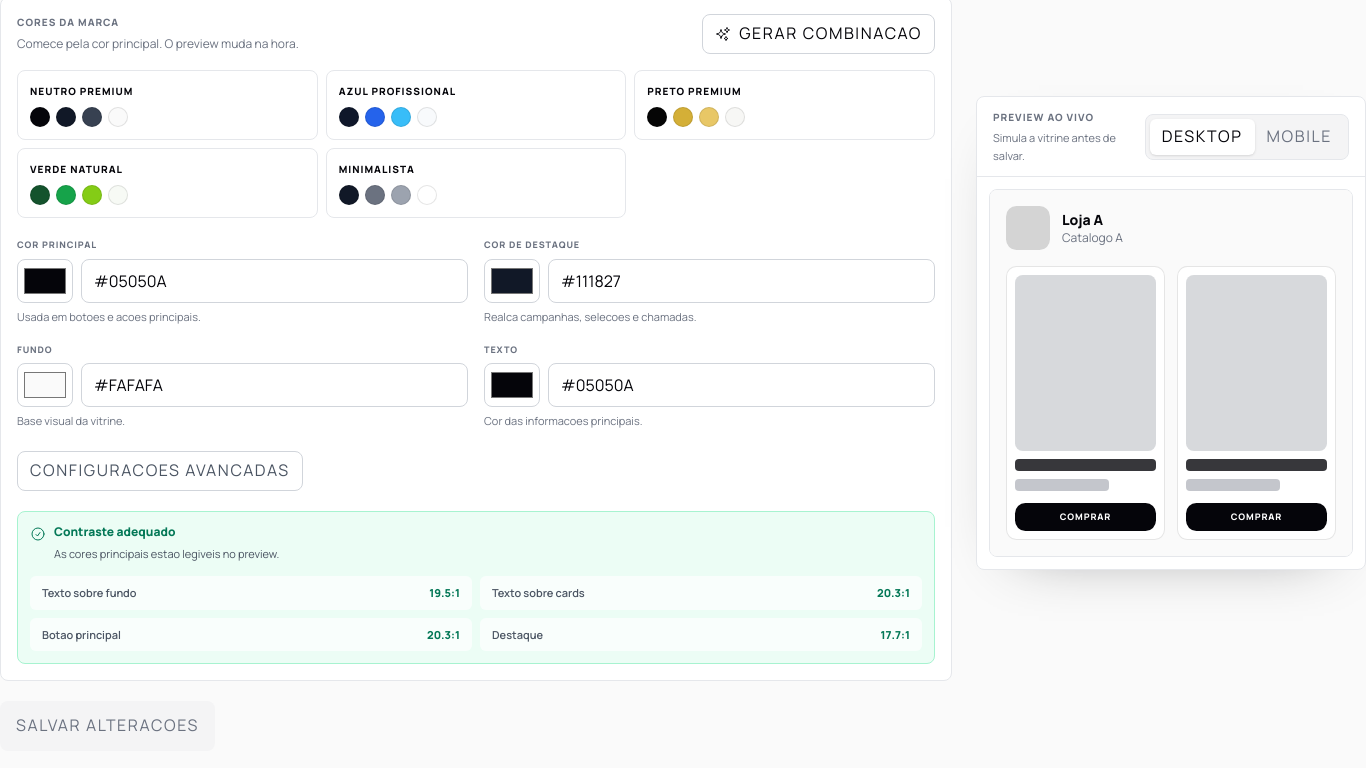
Test: StorefrontAppearanceTab › warns about low contrast and can fix the palette locally
(page scrolled)
Step 1. Replace the text in the field with test id "storefront-theme-background" with "#000000" → (274, 385), box [81,363,468,407]
(page scrolled)
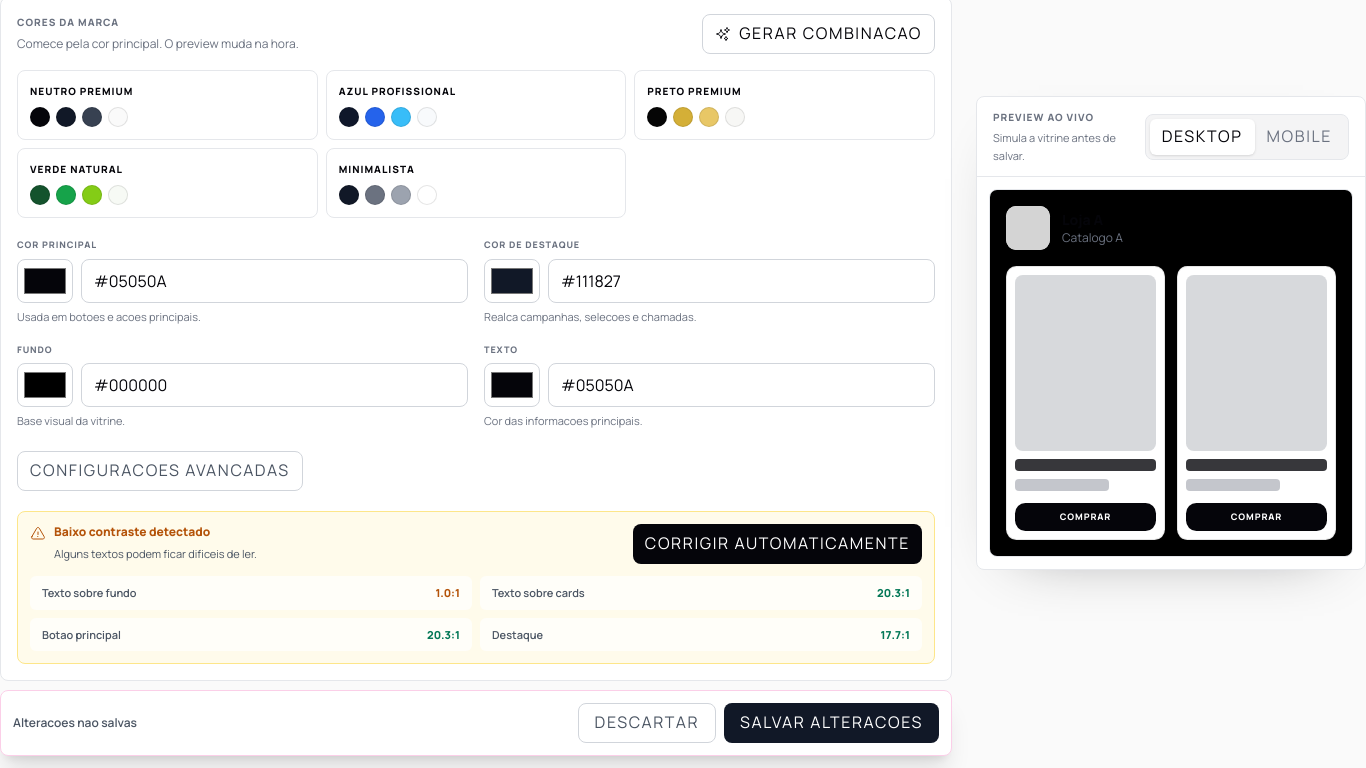
Step 2. Replace the text in the field with test id "storefront-theme-text" with "#111111" → (742, 385), box [548,363,935,407]
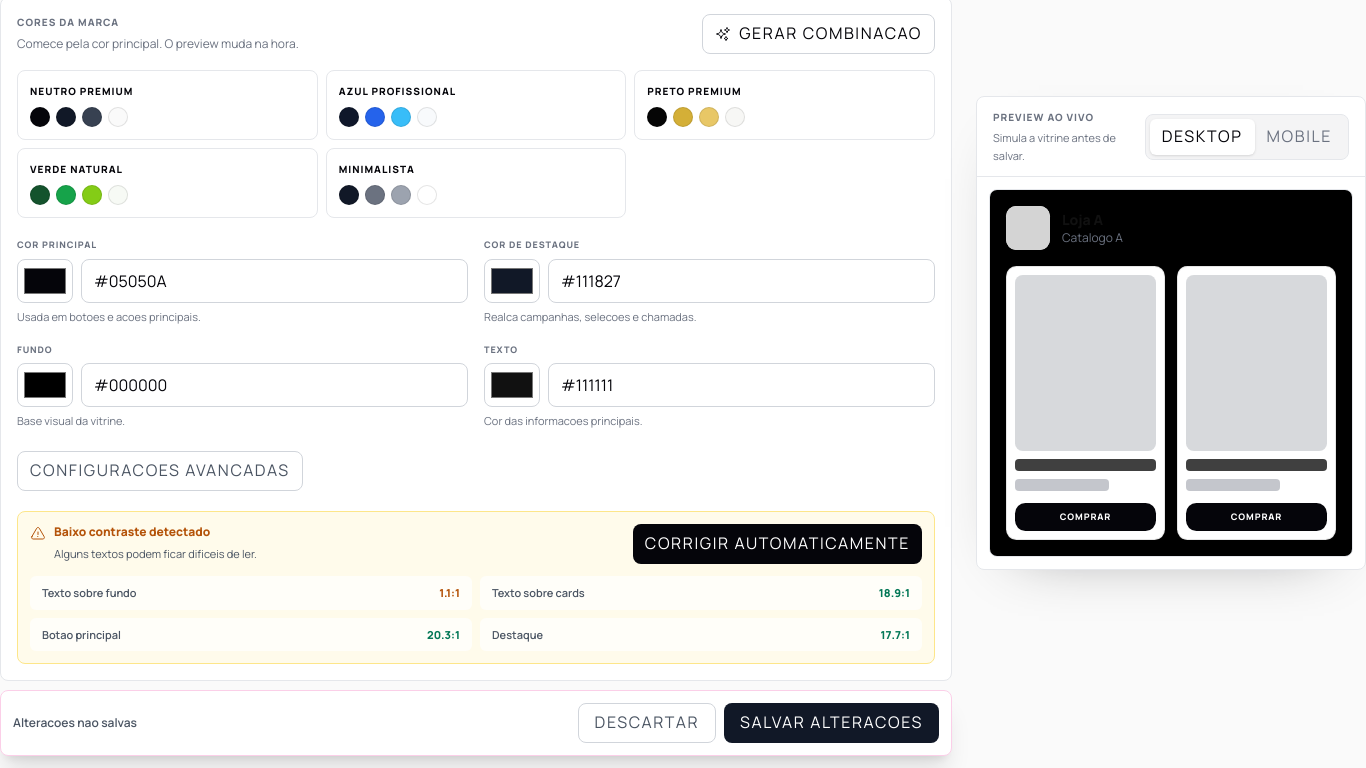
Now the element with test id "storefront-contrast-panel" shows "Baixo contraste", box [54,523,210,540]
Step 3. Click the button with test id "btn-fix-storefront-contrast" → (777, 544), box [633,524,922,564]
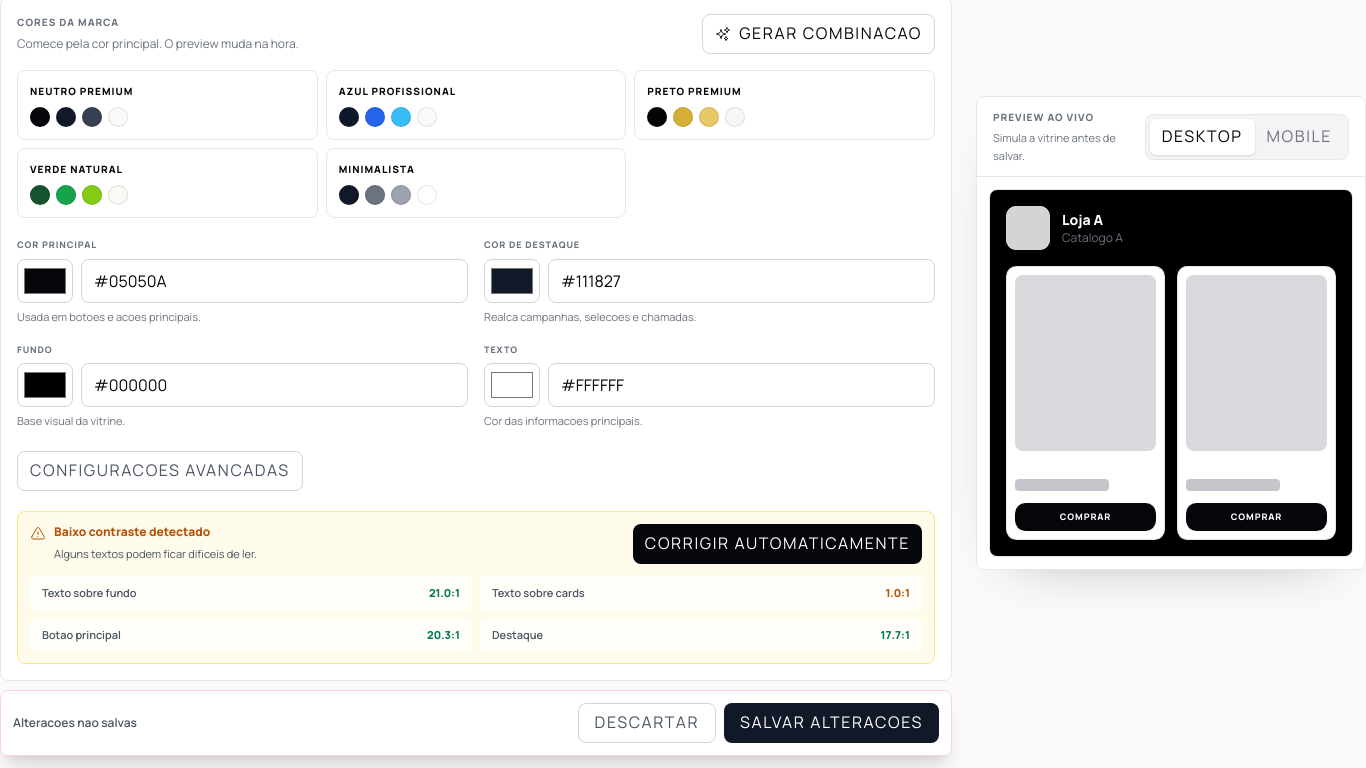
Now the field with test id "storefront-theme-text" holds "#FFFFFF", box [548,363,935,407]
